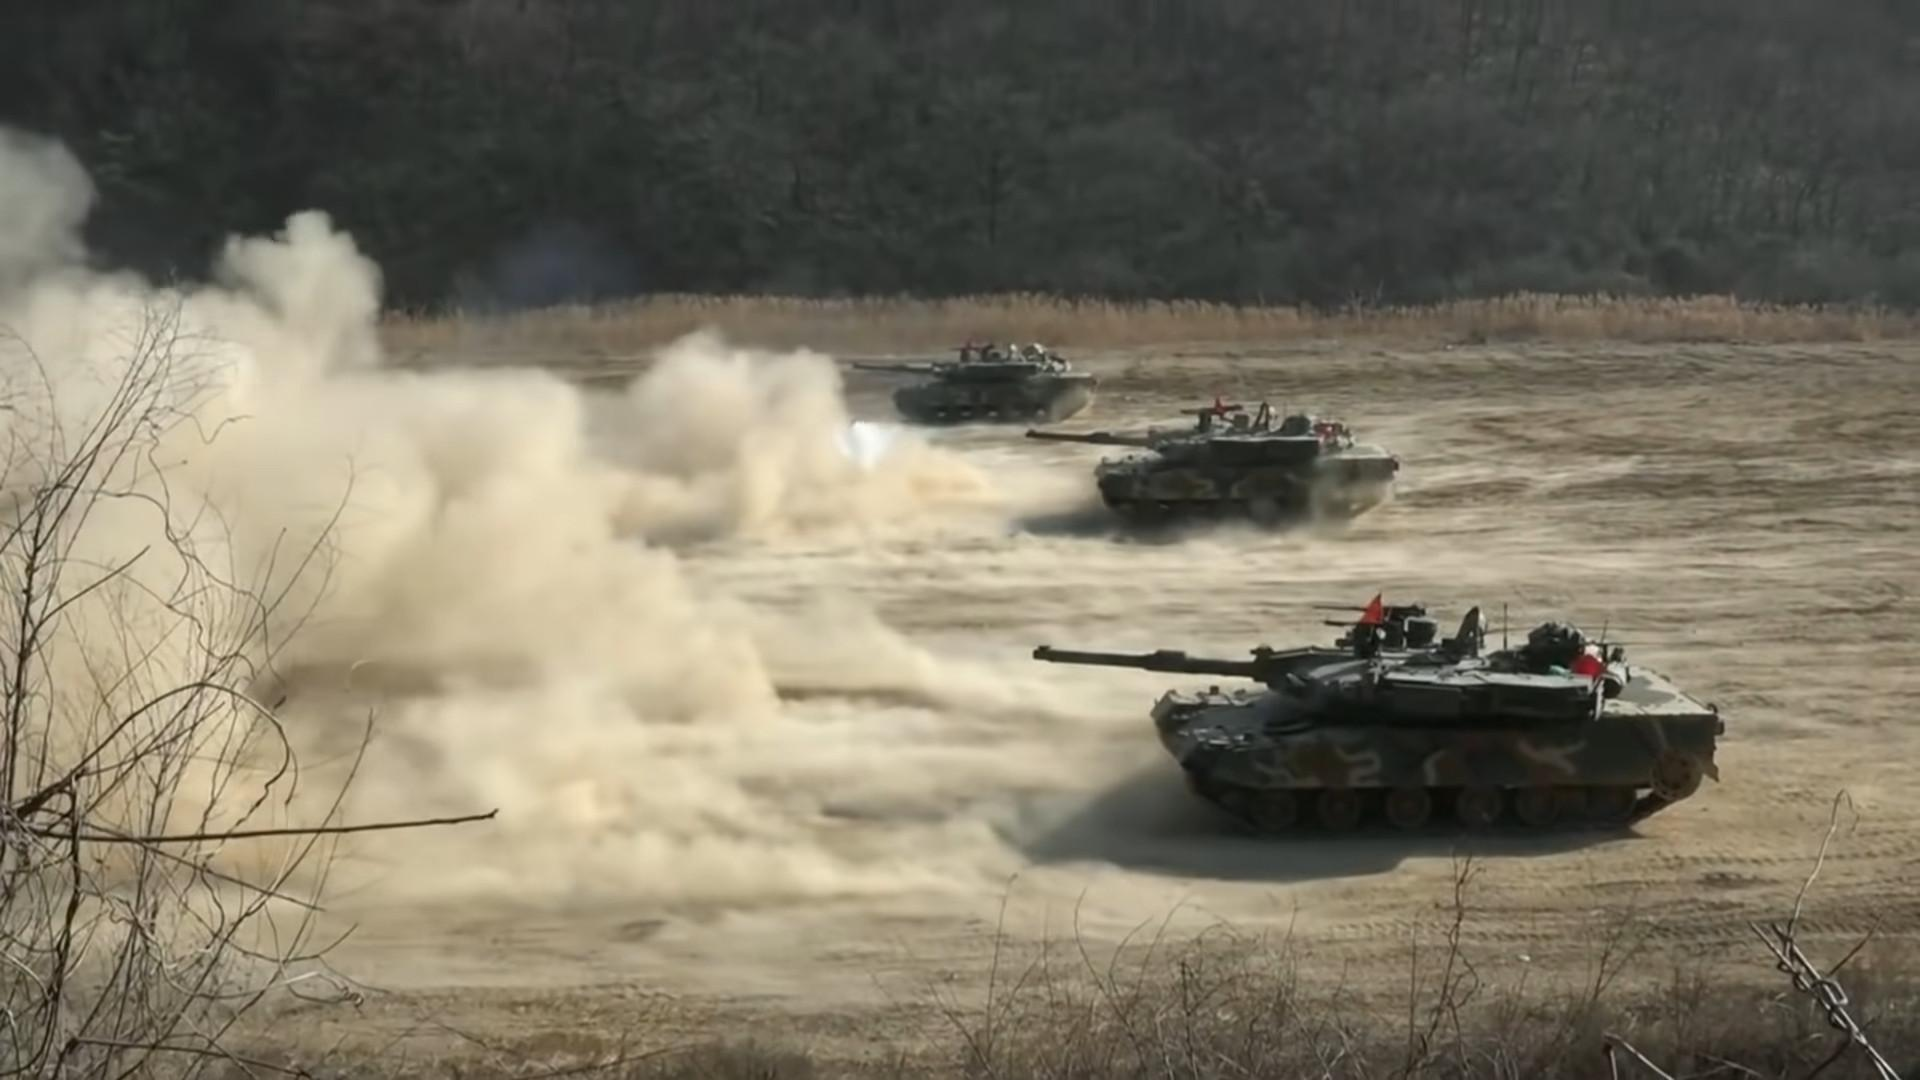tank: (1034, 591, 1725, 839), (1026, 402, 1399, 530), (853, 343, 1096, 427)
